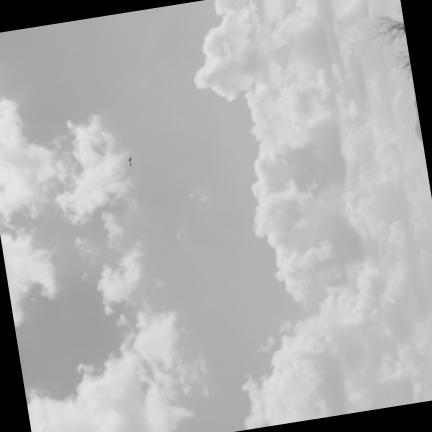Shahed: (127, 155, 133, 169)
